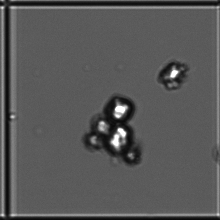Living Cell: (156, 54, 190, 89), (104, 125, 133, 161), (107, 94, 138, 121), (80, 129, 102, 155), (127, 151, 150, 168), (93, 115, 111, 132)
